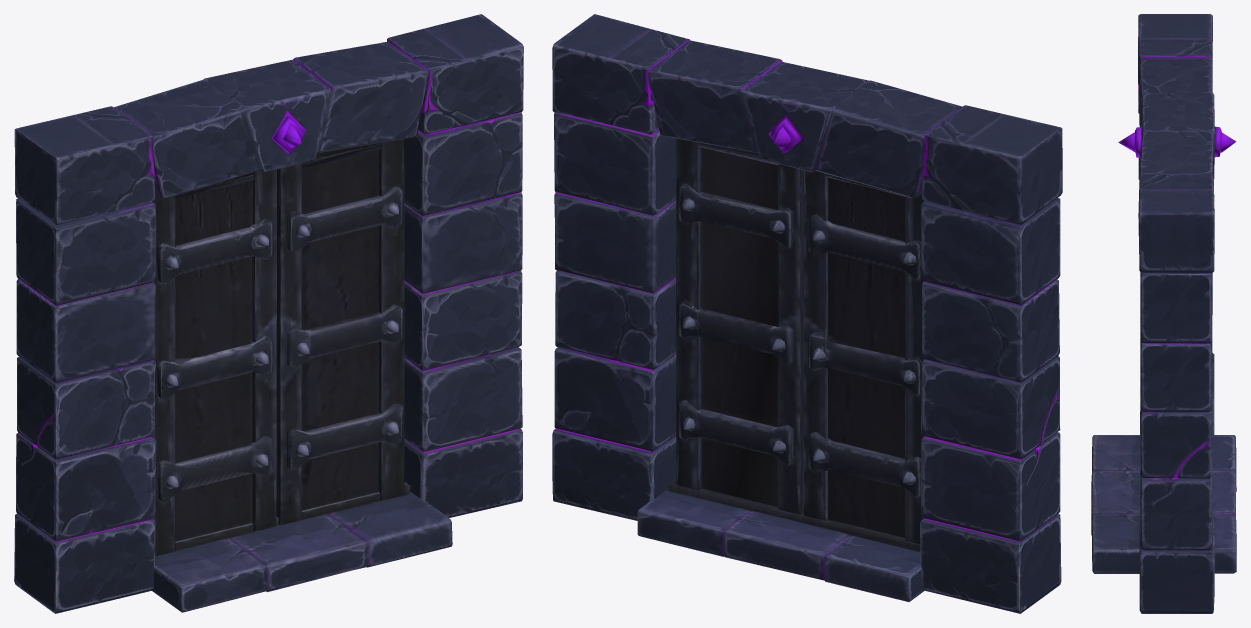
The model's file is door_square_closed.glb.
The picture shows the model from 3 angles, left to right: view 1: azimuth 30°, elevation 25°; view 2: azimuth 150°, elevation 25°; view 3: azimuth 270°, elevation 25°; orthographic projection. The views are drawn at different scales.
Size of the model in its own units: 1 by 0.9473 by 0.3076.
Materials: 1 (1 with a texture image).
